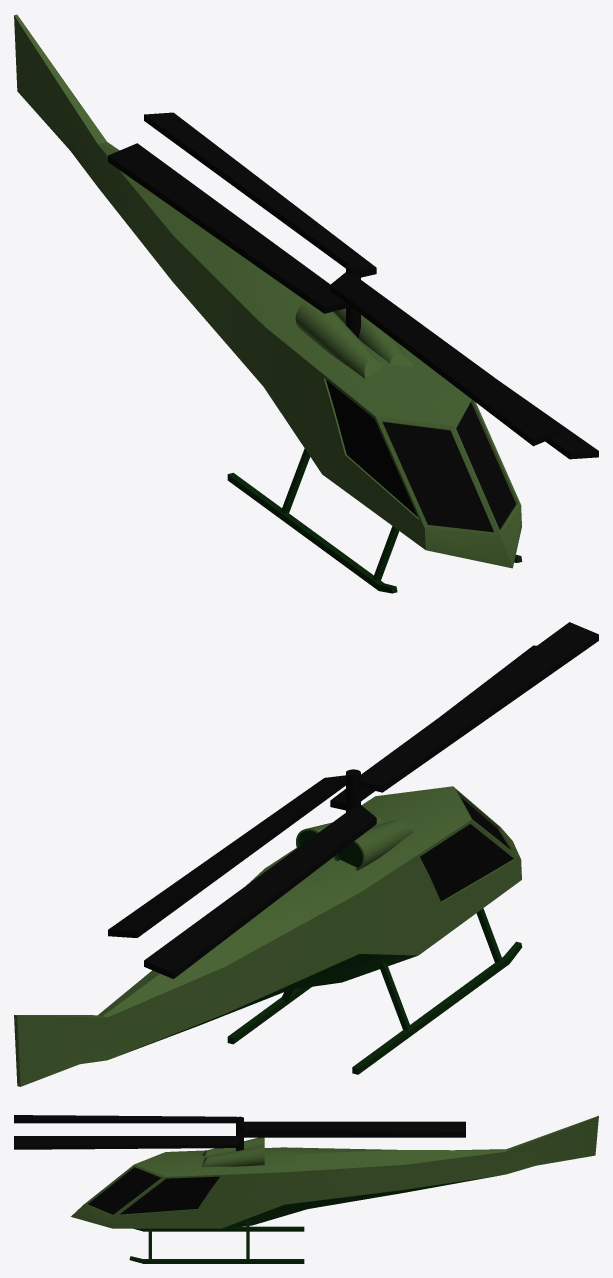
File: Helicopter.fbx
3 renders of one model, top to bottom at view 1: azimuth 30°, elevation 25°; view 2: azimuth 150°, elevation 25°; view 3: azimuth 270°, elevation 25°, orthographic. The views are drawn at different scales.
Visible parts, largest first — view 1: Helicopter, Blade.001, Blade, Gear; view 2: Helicopter, Blade.001, Blade, Gear; view 3: Helicopter, Blade.001, Blade, Gear.
Part boxes in pixels (x1,y1,x2,y2): Helicopter: [14, 14, 521, 568]; Blade.001: [144, 112, 562, 446]; Blade: [108, 143, 598, 459]; Gear: [227, 448, 522, 593]; Helicopter: [14, 786, 521, 1086]; Blade.001: [108, 622, 598, 937]; Blade: [144, 645, 536, 978]; Gear: [227, 908, 522, 1074]; Helicopter: [71, 1115, 598, 1228]; Blade.001: [14, 1115, 465, 1135]; Blade: [14, 1133, 465, 1151]; Gear: [129, 1221, 304, 1263].
Size of the model in its own units: 271 by 489 by 1980.
